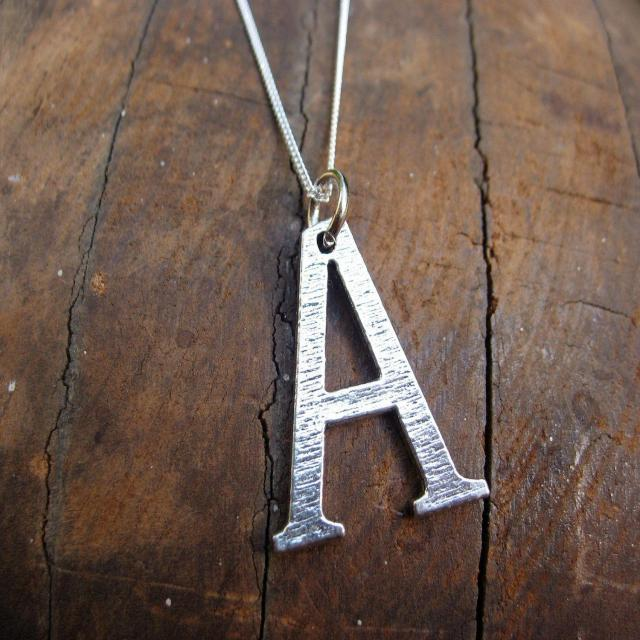A: (230, 206, 507, 554)
